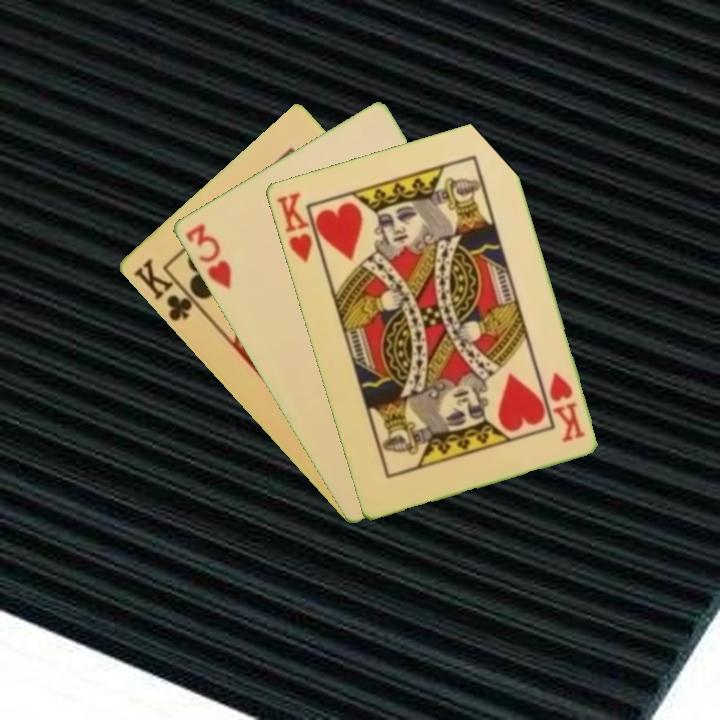3h: (181, 219, 234, 292)
Kc: (129, 255, 204, 325)
Kh: (272, 188, 325, 266), (545, 368, 587, 445)
